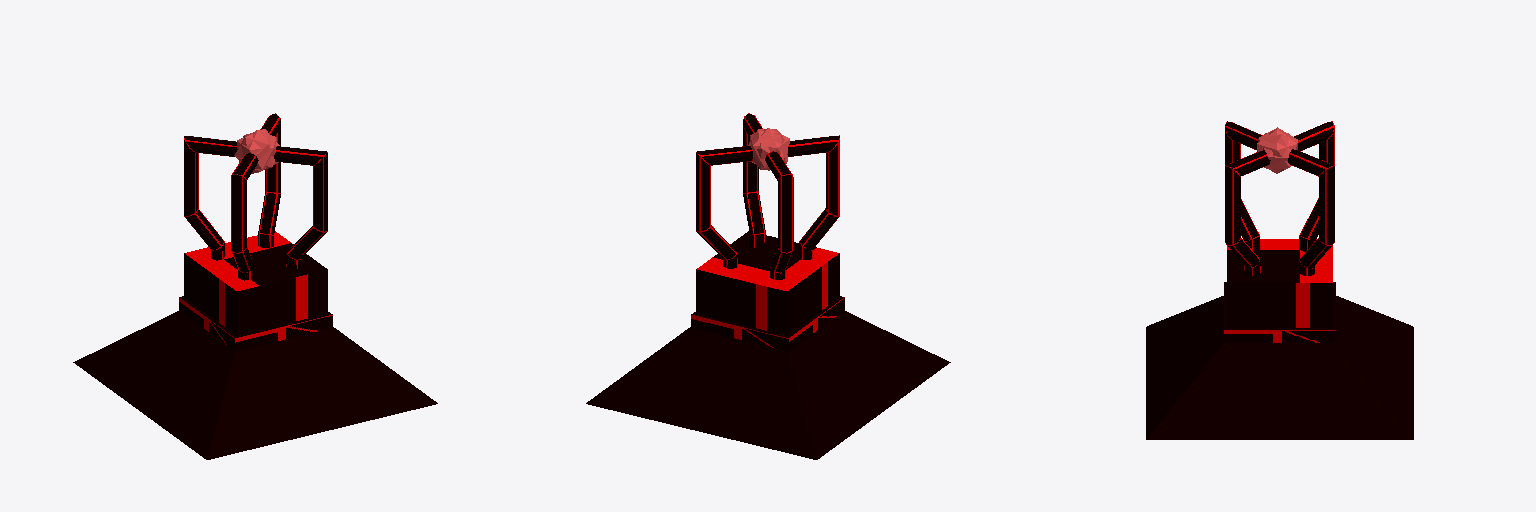
The picture shows the model from 3 angles: view 1: azimuth 30°, elevation 25°; view 2: azimuth 150°, elevation 25°; view 3: azimuth 270°, elevation 25°; orthographic projection.
Visible parts, largest first — view 1: Conjuration_1_Base001, Conjuration_1_Pipe_4, Conjuration_1_Pipe_3, Conjuration_1_Pipe_1, Conjuration_1_Pipe_2, ConjurationEnergy003, ConjurationEnergy004; view 2: Conjuration_1_Base001, Conjuration_1_Pipe_2, Conjuration_1_Pipe_1, Conjuration_1_Pipe_4, Conjuration_1_Pipe_3, ConjurationEnergy003; view 3: Conjuration_1_Base001, Conjuration_1_Pipe_2, Conjuration_1_Pipe_3, Conjuration_1_Pipe_4, Conjuration_1_Pipe_1, ConjurationEnergy003, ConjurationEnergy004.
Boxes of the visible parts, x1,y1,x2,y2 form: Conjuration_1_Base001: [73, 231, 437, 459]; Conjuration_1_Pipe_4: [184, 136, 237, 260]; Conjuration_1_Pipe_3: [274, 146, 327, 268]; Conjuration_1_Pipe_1: [231, 153, 258, 280]; Conjuration_1_Pipe_2: [258, 113, 280, 247]; ConjurationEnergy003: [237, 130, 278, 172]; ConjurationEnergy004: [234, 129, 279, 173]; Conjuration_1_Base001: [586, 231, 950, 459]; Conjuration_1_Pipe_2: [696, 146, 753, 268]; Conjuration_1_Pipe_1: [788, 135, 839, 259]; Conjuration_1_Pipe_4: [765, 151, 793, 279]; Conjuration_1_Pipe_3: [743, 113, 765, 247]; ConjurationEnergy003: [749, 128, 789, 170]; Conjuration_1_Base001: [1146, 239, 1413, 439]; Conjuration_1_Pipe_2: [1288, 149, 1334, 275]; Conjuration_1_Pipe_3: [1225, 150, 1270, 275]; Conjuration_1_Pipe_4: [1294, 121, 1334, 251]; Conjuration_1_Pipe_1: [1225, 121, 1262, 251]; ConjurationEnergy003: [1257, 129, 1297, 169]; ConjurationEnergy004: [1257, 127, 1298, 173].
Bounding box in the file's own units: 20 × 20.98 × 20.
Materials: 2 (1 with a texture image).